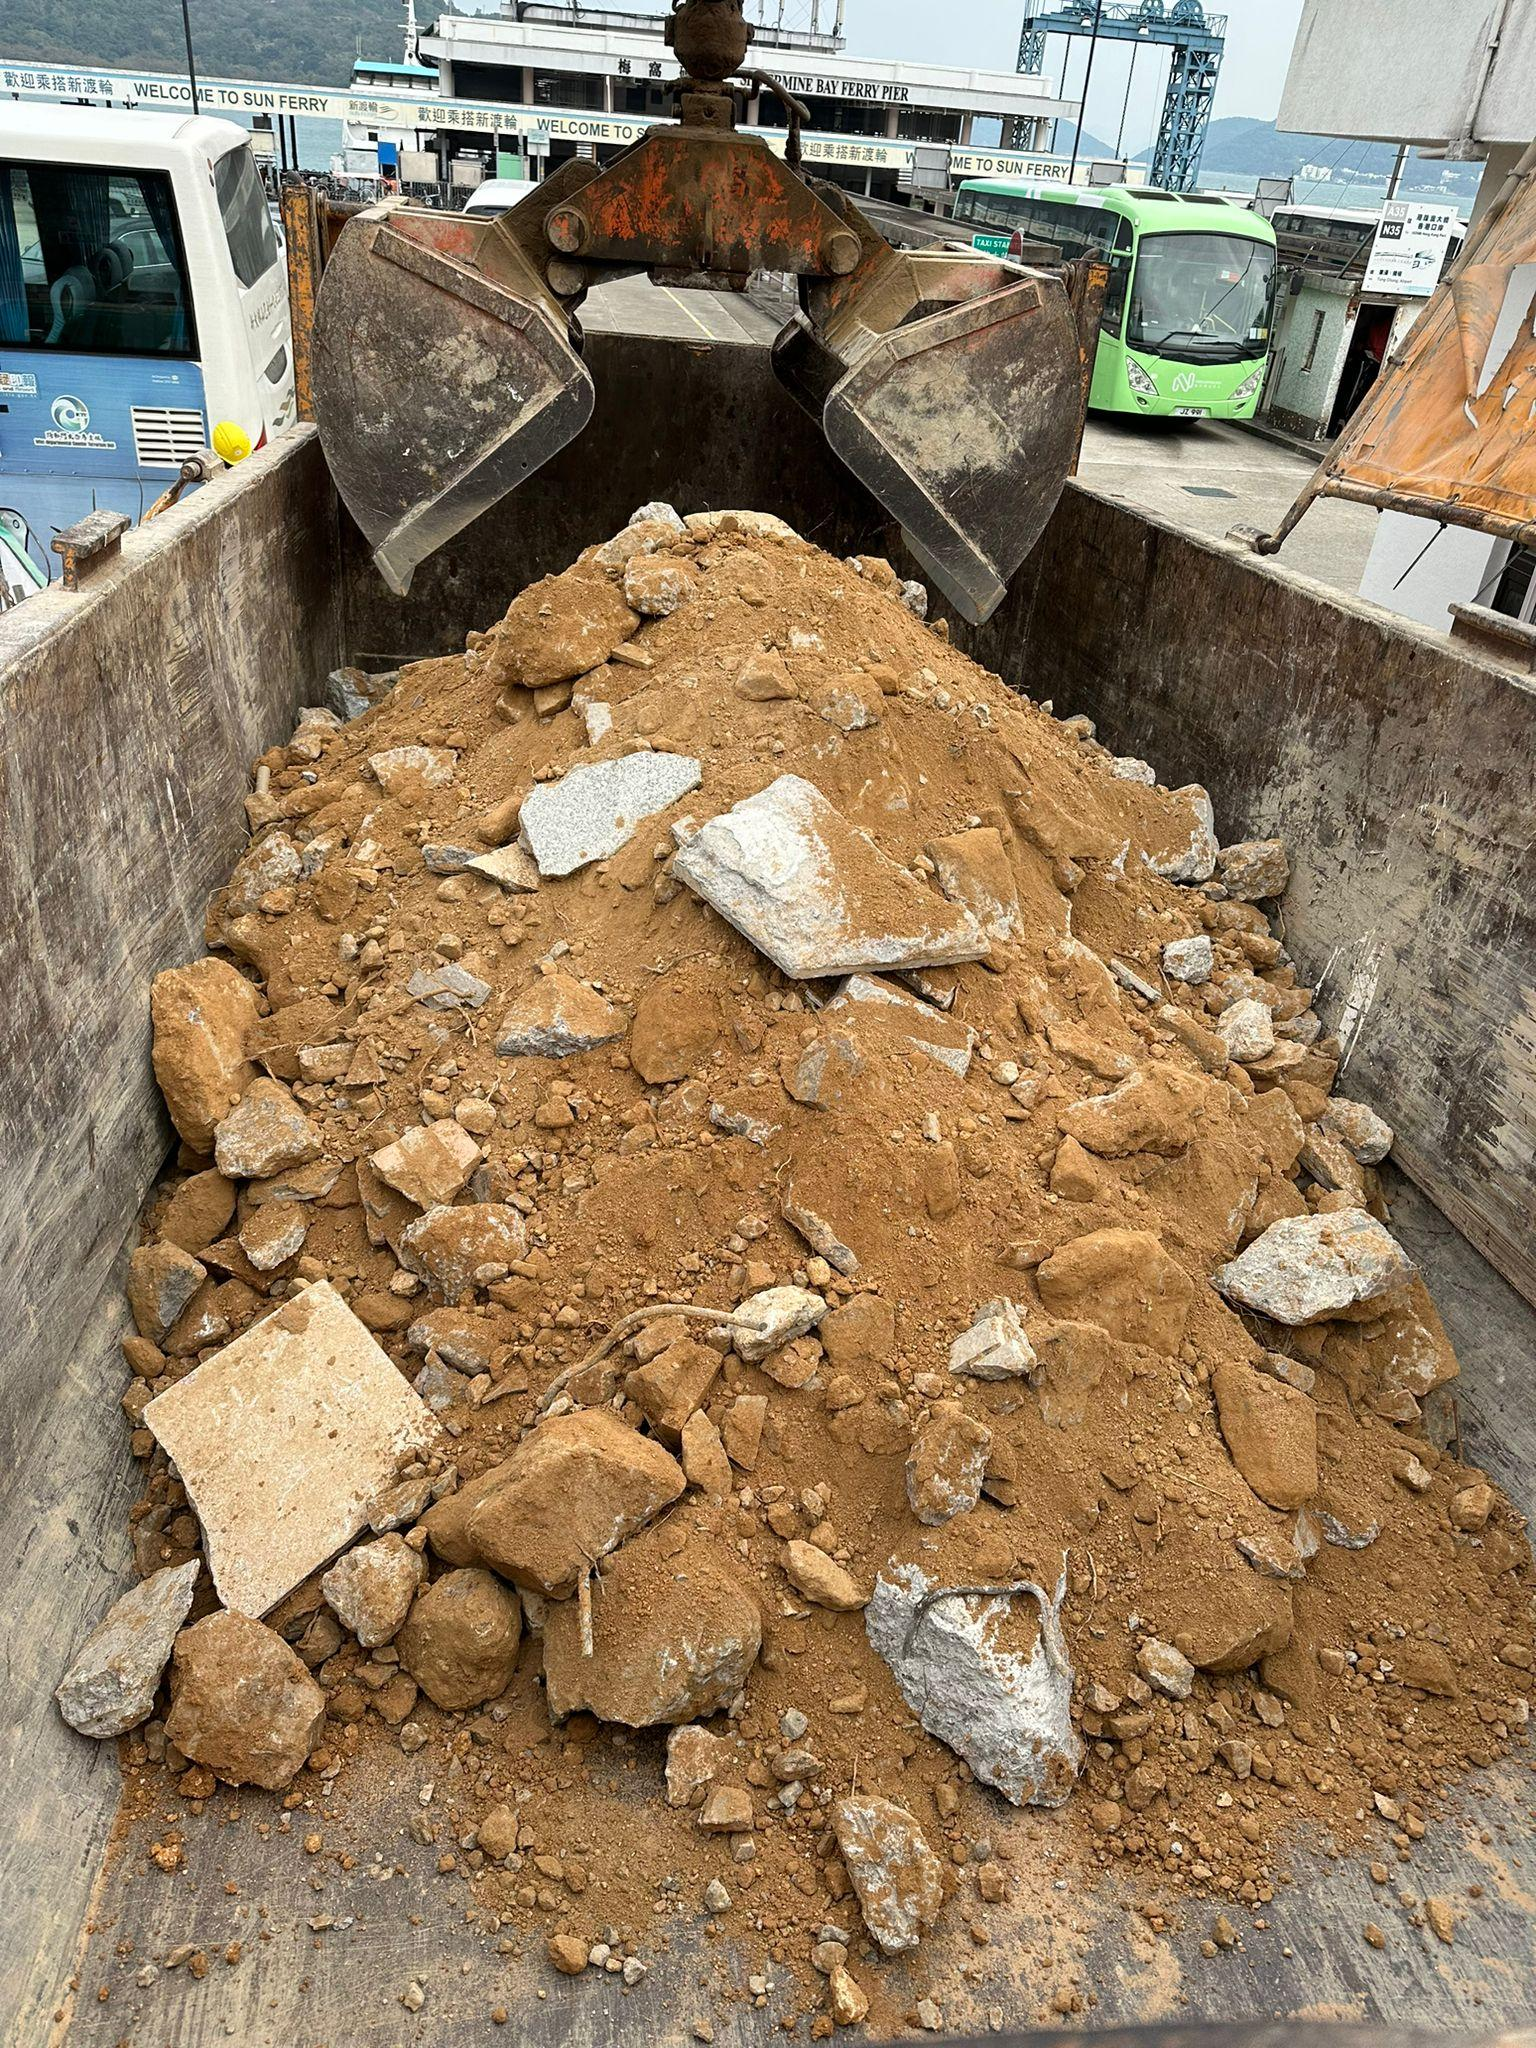dry: (173, 524, 1397, 1756)
